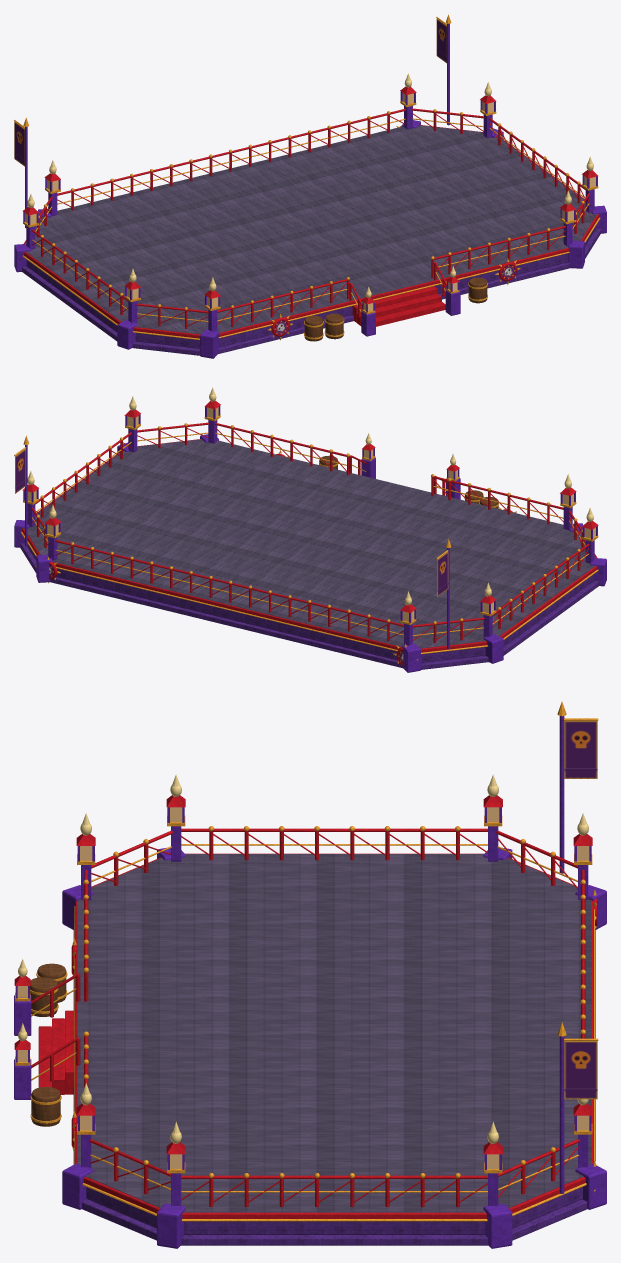
Rendered from VK_Platform.fbx.
3 views of the same model, one above another, from view 1: azimuth 30°, elevation 25°; view 2: azimuth 150°, elevation 25°; view 3: azimuth 270°, elevation 25° (orthographic). The views are drawn at different scales.
Parts seen in each view (by area): view 1: VK_Platform; view 2: VK_Platform; view 3: VK_Platform.
Part boxes in pixels (box(x1,y1,x2,y2)): VK_Platform: box(14, 14, 606, 358); VK_Platform: box(14, 387, 606, 672); VK_Platform: box(14, 701, 606, 1248).
Bounding box in the file's own units: 30 × 7.81 × 20.34.
